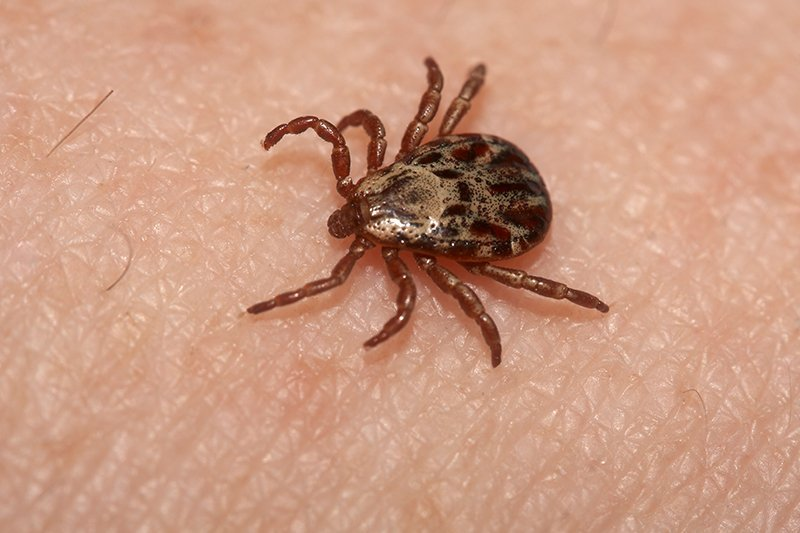unlabelled_tick: (241, 52, 619, 377)
